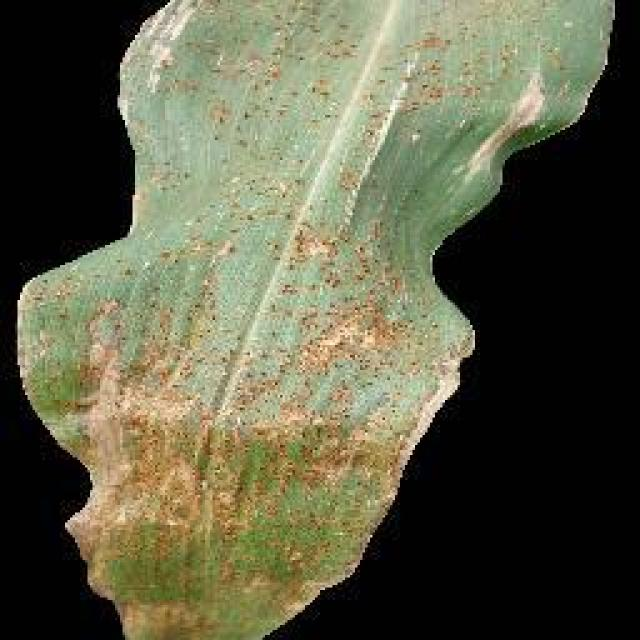Corn Common Rust: (127, 0, 478, 640)
